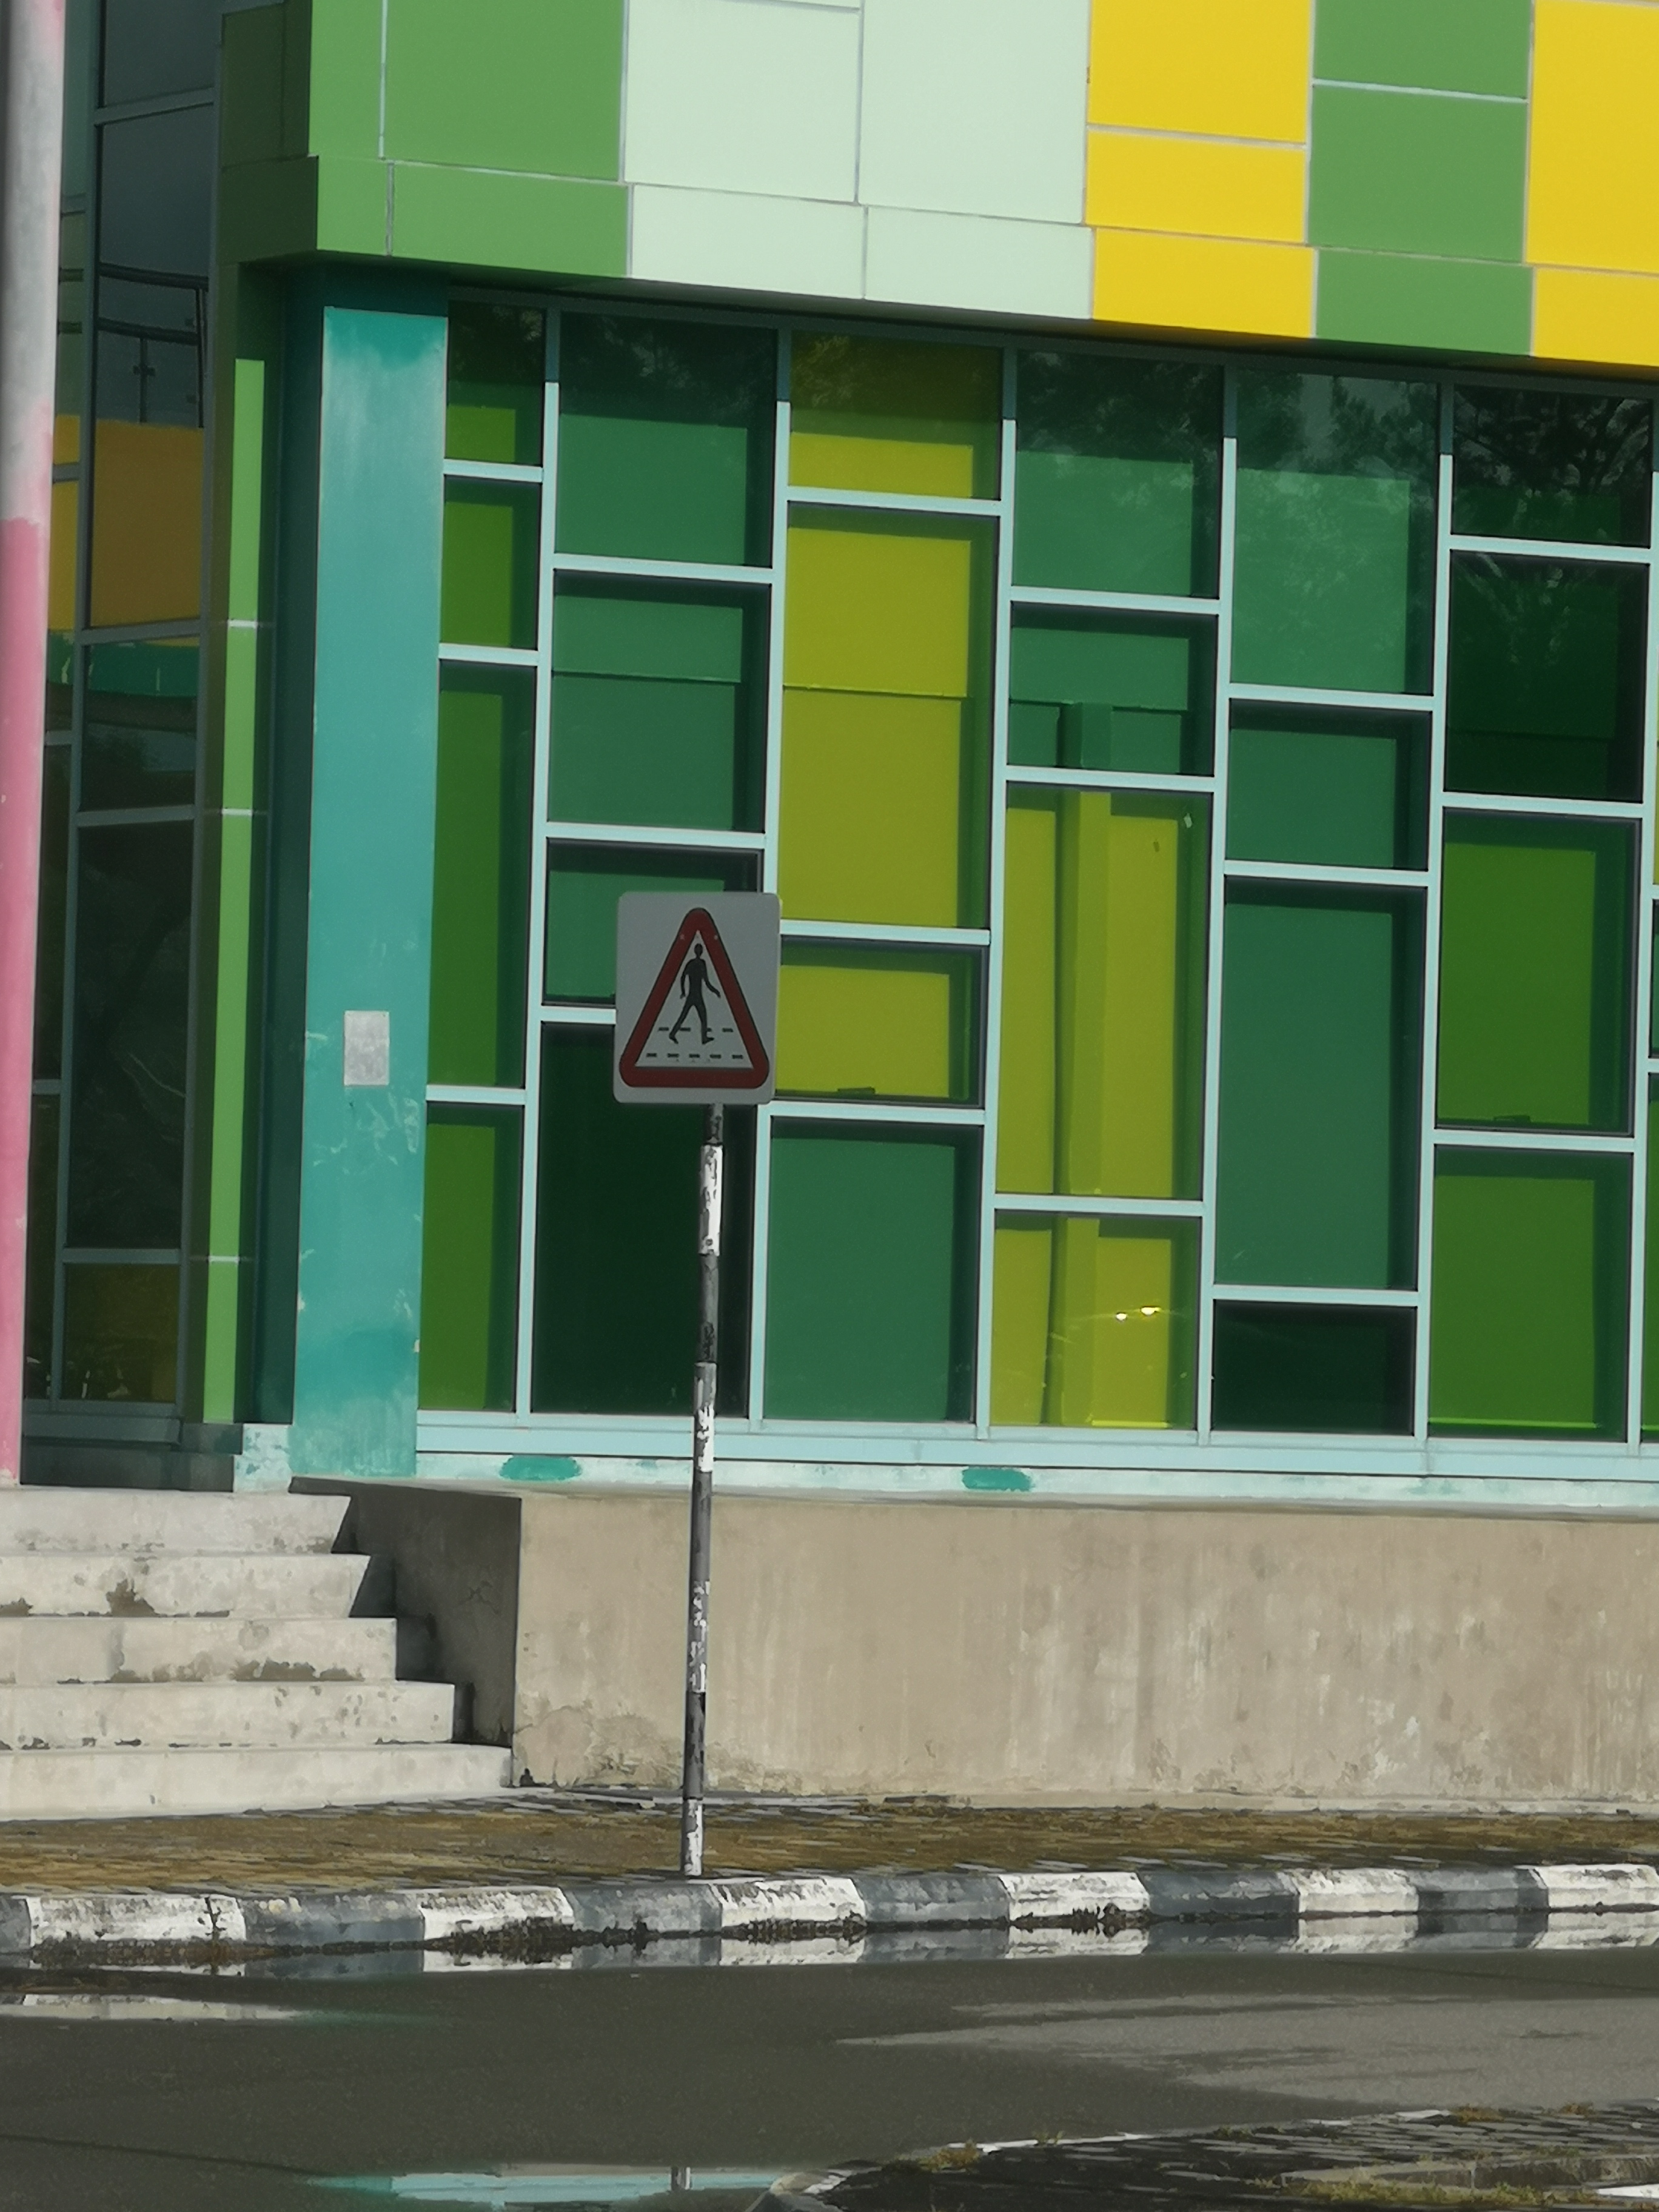pedestrian crossing: (610, 878, 775, 1129)
